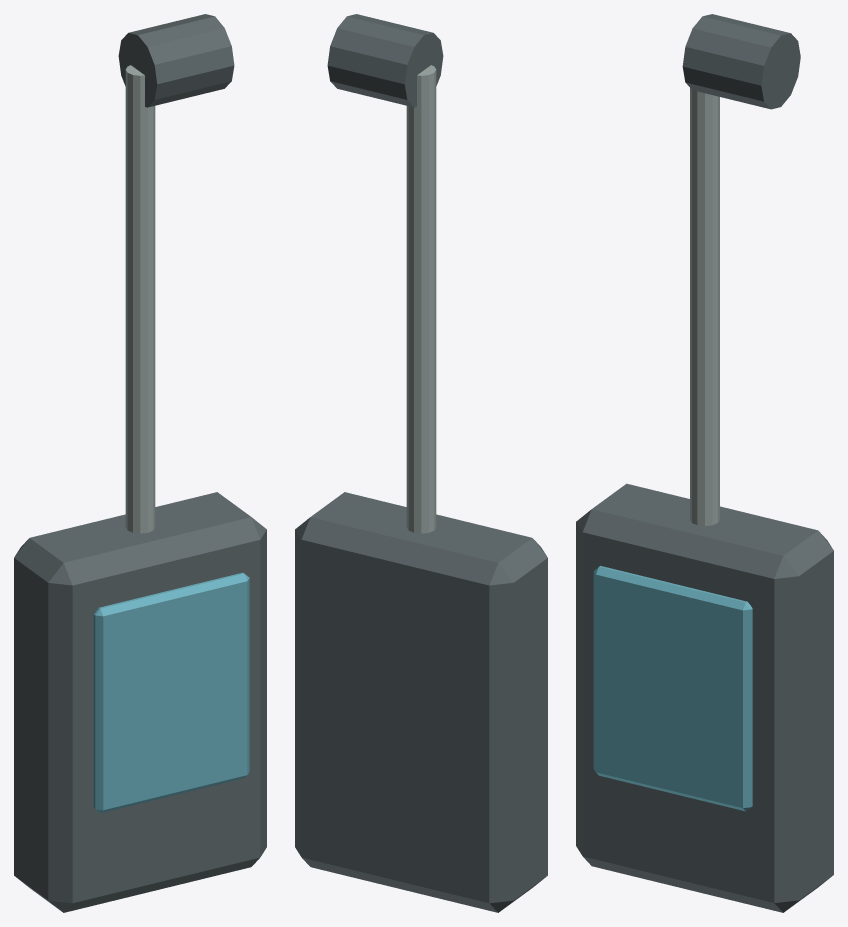
The model's file is probe_c1.glb.
3 renders of one model, left to right at view 1: azimuth 30°, elevation 25°; view 2: azimuth 150°, elevation 25°; view 3: azimuth 330°, elevation 25°, orthographic.
Visible parts, largest first — view 1: Camera handset; view 2: Camera handset; view 3: Camera handset.
Part boxes in pixels (x1,y1,x2,y2): Camera handset: [14, 14, 266, 912]; Camera handset: [295, 14, 547, 912]; Camera handset: [576, 14, 833, 912].
Bounding box in the file's own units: 0.085 × 0.313 × 0.041.
